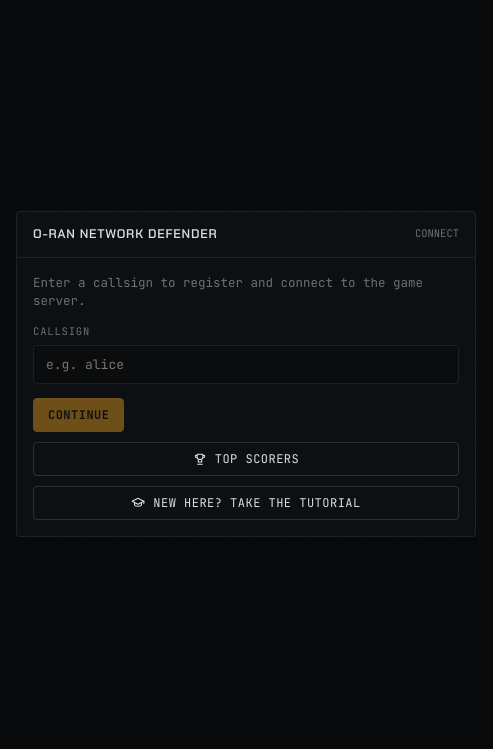
Test: Lobby › identifies a user, creates a match with chosen settings, polls the room, and leaves back to choose
This screenshot has width=493, height=749.
Step 1. Type "  alice  " into the field with placeholder "e.g. alice" → (246, 365), box [33,345,459,384]
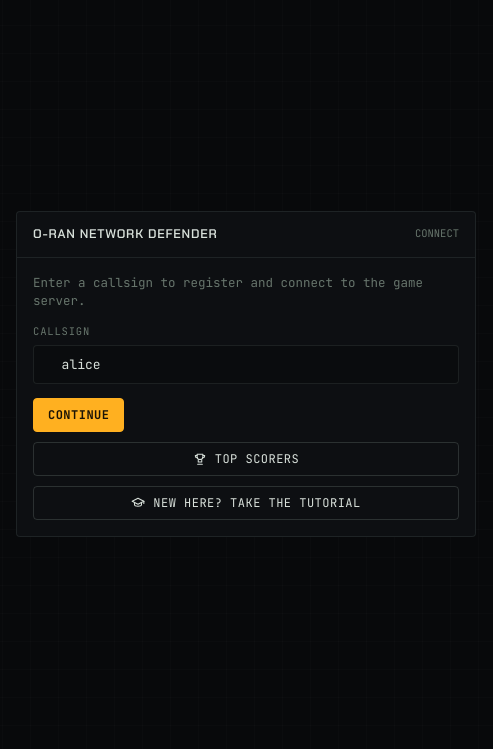
Step 2. Click the button "Continue" → click(79, 415), box [33,398,124,432]
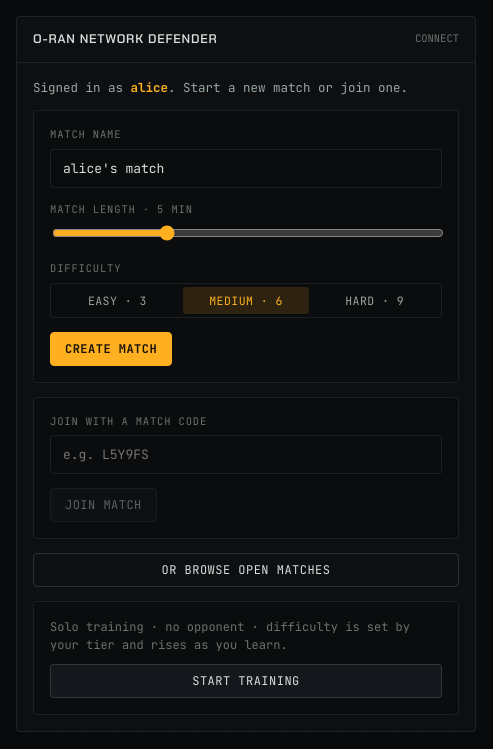
Now the text "Signed in as alice. Start a new match or join one." is shown, box [33,78,459,97]
Now the field showing "alice's match" is shown, box [50,148,442,188]
Step 3. Set the slider to "9" → (275, 233), box [52,225,444,241]
Step 4. Click the button "Hard · 9" → click(375, 300), box [311,286,438,314]
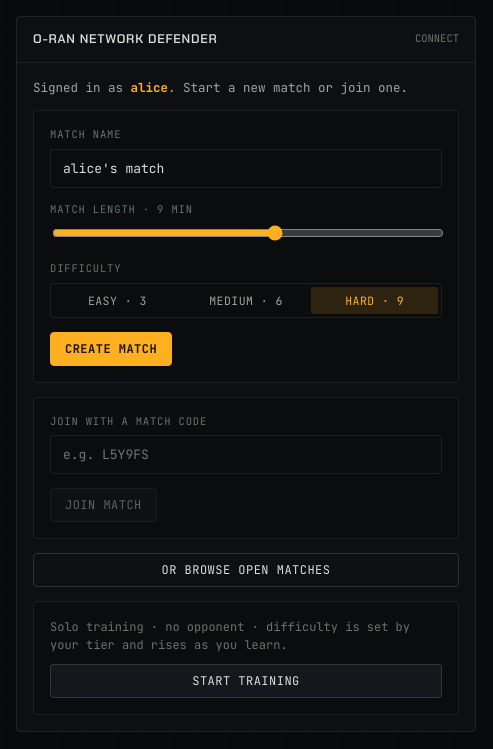
Step 5. Replace the text in the field showing "alice's match" with "Hard mode" → (246, 168), box [50,148,442,188]
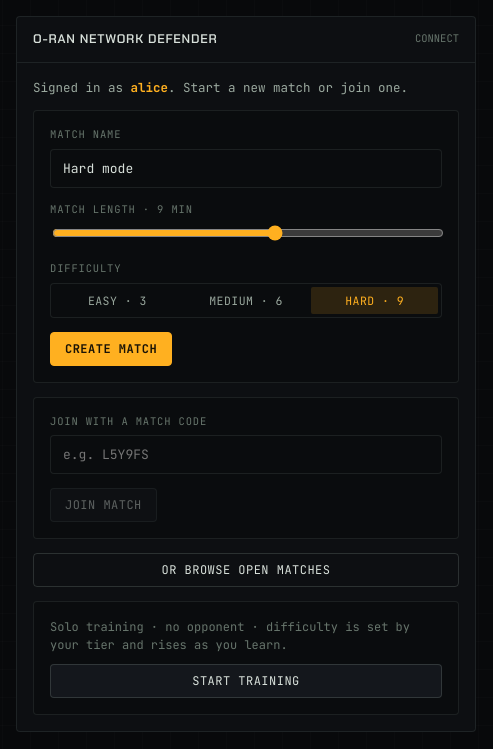
Step 6. Click the button "Create match" → click(111, 348), box [50,332,172,366]
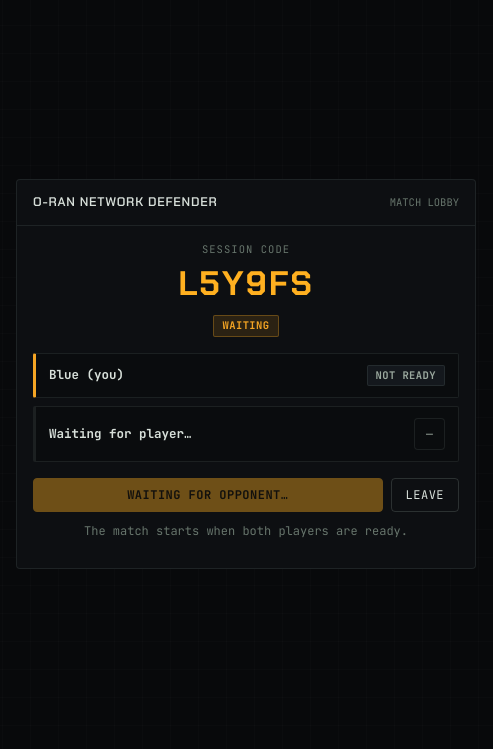
Now the text "L5Y9FS" is shown, box [178,261,314,305]
Now the text "Blue (you)" is shown, box [49,366,124,383]
Now the button "Waiting for opponent…" is disabled, box [33,478,383,512]
Step 7. Click the button "Leave" → click(425, 495), box [391,478,459,512]
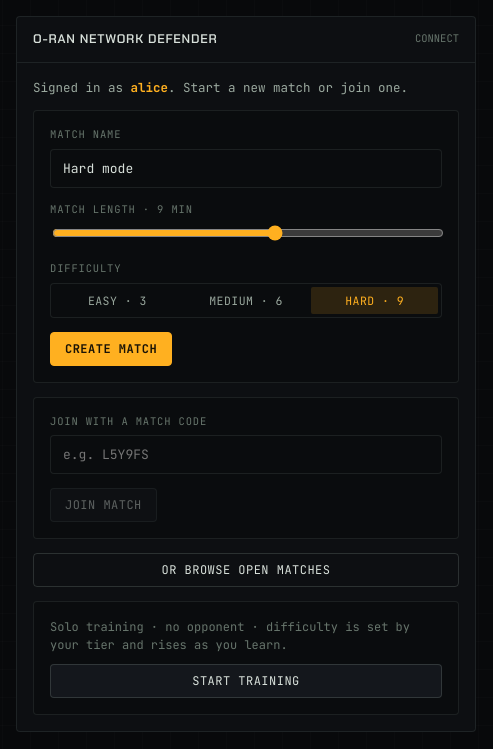
Now the text "Signed in as alice. Start a new match or join one." is shown, box [33,78,459,97]
